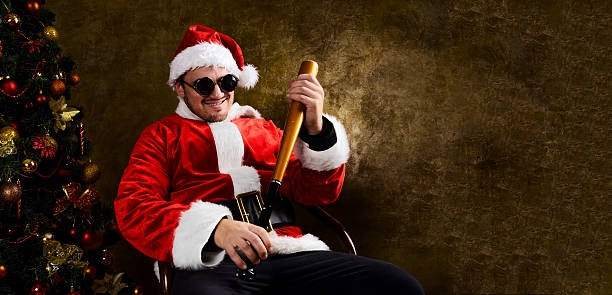bita: (250, 62, 325, 259)
